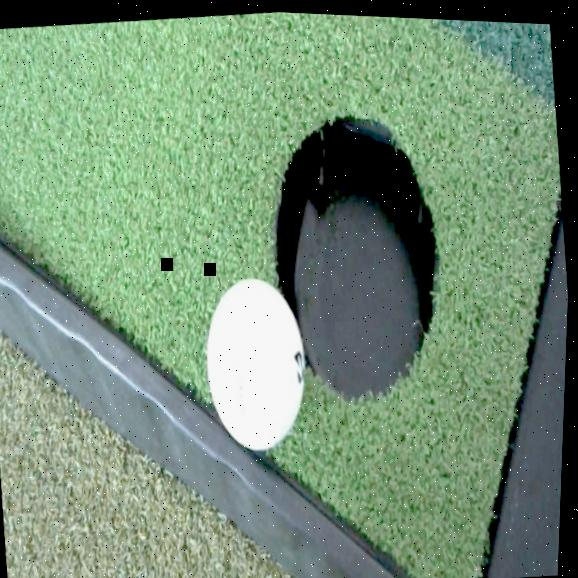GolfBall: (196, 266, 319, 461)
